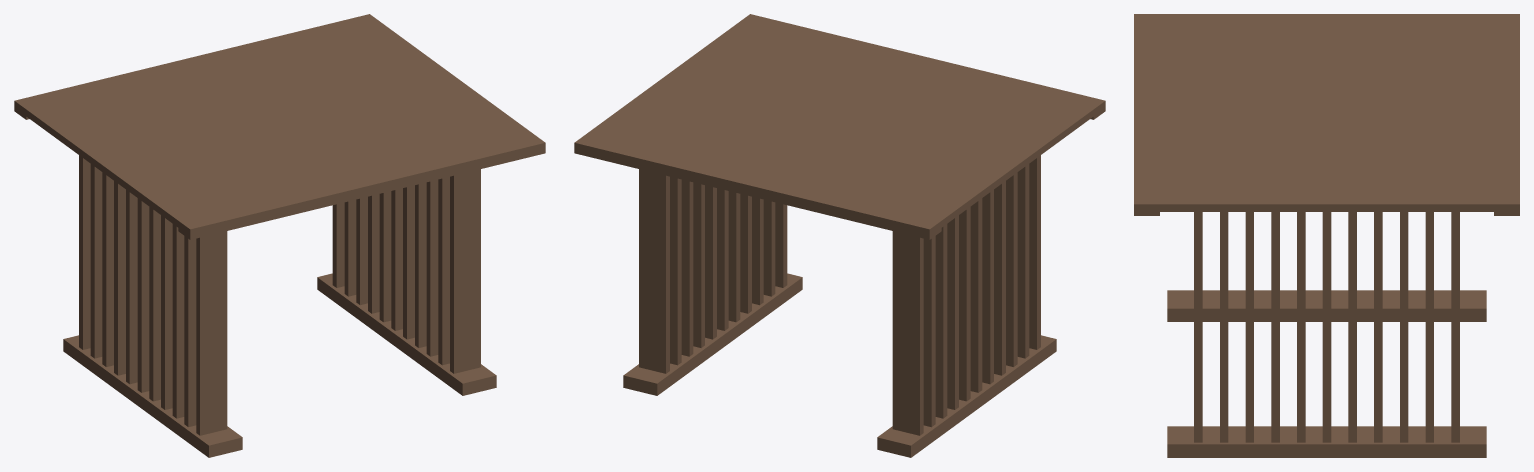
File: 532_ダイニングテーブル2人掛け.glb
The picture shows the model from 3 angles, left to right: view 1: azimuth 30°, elevation 25°; view 2: azimuth 150°, elevation 25°; view 3: azimuth 270°, elevation 25°; orthographic projection. The views are drawn at different scales.
Visible parts, largest first — view 1: Body; view 2: Body; view 3: Body.
Boxes of the visible parts, box(x1,y1,x2,y2) form: Body: box(14, 14, 545, 457); Body: box(574, 14, 1105, 457); Body: box(1134, 14, 1519, 457).
Bounding box in the file's own units: 1.05 × 0.7 × 0.9.
